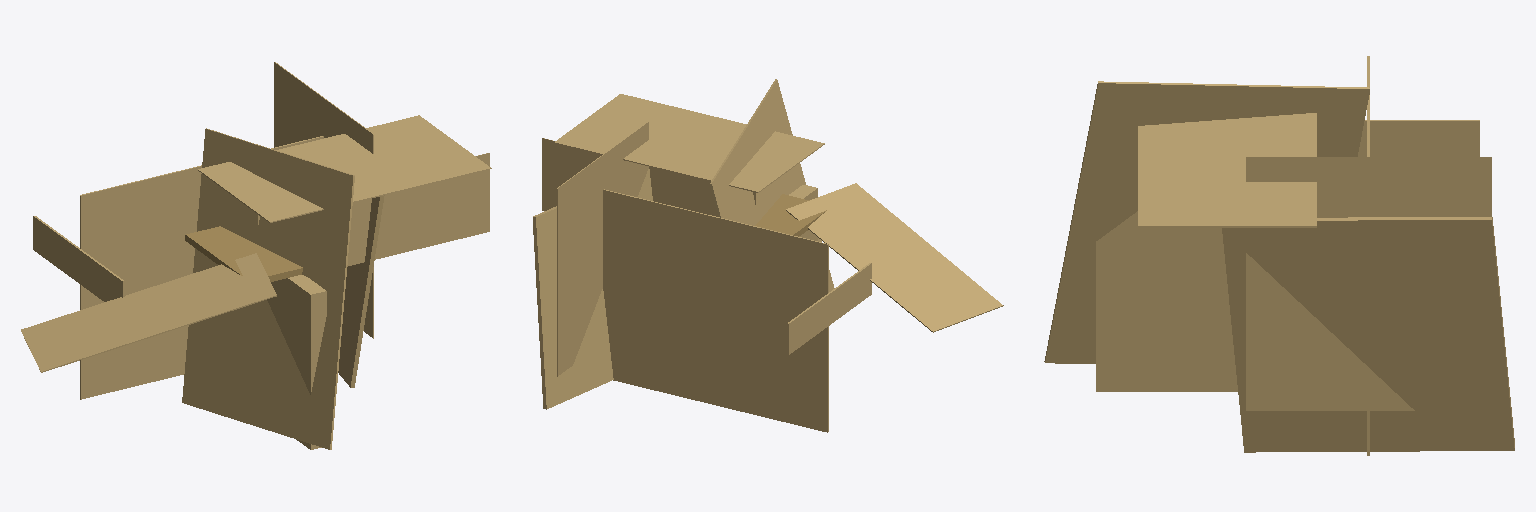
The robot description file, URDF, robot "evolved_design":
<?xml version="1.0" ?>
<robot name="evolved_design">
  <link name="base_link">
    <inertial>
      <mass value="0.001"/>
      <origin xyz="0 0 0" rpy="0 0 0"/>
      <inertia ixx="0.000001" ixy="0" ixz="0" iyy="0.000001" iyz="0" izz="0.000001"/>
    </inertial>
  </link>
  <link name="link_comp_0">
    <inertial>
      <mass value="8.880982"/>
      <origin xyz="0 0 0" rpy="0 0 0"/>
      <inertia ixx="0.393810808" ixy="0" ixz="0" iyy="0.161316370" iyz="0" izz="0.236194847"/>
    </inertial>
    <visual>
      <origin xyz="0 0 0" rpy="0 0 0"/>
      <geometry>
        <box size="0.050000 0.562714 0.464189"/>
      </geometry>
      <material name="link_comp_0_material">
        <color rgba="0.8 0.7 0.5 1"/>
      </material>
    </visual>
    <collision>
      <origin xyz="0 0 0" rpy="0 0 0"/>
      <geometry>
        <box size="0.050000 0.562714 0.464189"/>
      </geometry>
    </collision>
  </link>
  <joint name="base_link_to_link_comp_0" type="fixed">
    <parent link="base_link"/>
    <child link="link_comp_0"/>
    <origin xyz="0.025000 0.281357 0.232094" rpy="0.000000 0.000000 0.000000"/>
  </joint>
  <link name="link_comp_1">
    <inertial>
      <mass value="1.500321"/>
      <origin xyz="0 0 0" rpy="0 0 0"/>
      <inertia ixx="0.046464279" ixy="0" ixz="0" iyy="0.119057487" iyz="0" izz="0.072598849"/>
    </inertial>
    <visual>
      <origin xyz="0 0 0" rpy="0 0 0"/>
      <geometry>
        <box size="0.762000 0.004750 0.609600"/>
      </geometry>
      <material name="link_comp_1_material">
        <color rgba="0.8 0.7 0.5 1"/>
      </material>
    </visual>
    <collision>
      <origin xyz="0 0 0" rpy="0 0 0"/>
      <geometry>
        <box size="0.762000 0.004750 0.609600"/>
      </geometry>
    </collision>
  </link>
  <joint name="base_link_to_link_comp_1" type="fixed">
    <parent link="base_link"/>
    <child link="link_comp_1"/>
    <origin xyz="0.002716 0.593974 0.304800" rpy="0.000000 0.000000 0.000000"/>
  </joint>
  <link name="link_comp_2">
    <inertial>
      <mass value="0.212601"/>
      <origin xyz="0 0 0" rpy="0 0 0"/>
      <inertia ixx="0.004343697" ixy="0" ixz="0" iyy="0.000183588" iyz="0" izz="0.004161537"/>
    </inertial>
    <visual>
      <origin xyz="0 0 0" rpy="0 0 0"/>
      <geometry>
        <box size="0.006350 0.484616 0.101598"/>
      </geometry>
      <material name="link_comp_2_material">
        <color rgba="0.8 0.7 0.5 1"/>
      </material>
    </visual>
    <collision>
      <origin xyz="0 0 0" rpy="0 0 0"/>
      <geometry>
        <box size="0.006350 0.484616 0.101598"/>
      </geometry>
    </collision>
  </link>
  <joint name="base_link_to_link_comp_2" type="fixed">
    <parent link="base_link"/>
    <child link="link_comp_2"/>
    <origin xyz="-0.381959 0.594301 0.401203" rpy="0.000000 0.000000 0.000000"/>
  </joint>
  <link name="link_comp_3">
    <inertial>
      <mass value="0.667781"/>
      <origin xyz="0 0 0" rpy="0 0 0"/>
      <inertia ixx="0.036755775" ixy="0" ixz="0" iyy="0.020680131" iyz="0" izz="0.016076644"/>
    </inertial>
    <visual>
      <origin xyz="0 0 0" rpy="0 0 0"/>
      <geometry>
        <box size="0.002997 0.537483 0.609600"/>
      </geometry>
      <material name="link_comp_3_material">
        <color rgba="0.8 0.7 0.5 1"/>
      </material>
    </visual>
    <collision>
      <origin xyz="0 0 0" rpy="0 0 0"/>
      <geometry>
        <box size="0.002997 0.537483 0.609600"/>
      </geometry>
    </collision>
  </link>
  <joint name="base_link_to_link_comp_3" type="fixed">
    <parent link="base_link"/>
    <child link="link_comp_3"/>
    <origin xyz="0.385714 0.594703 0.416882" rpy="0.000000 0.000000 0.000000"/>
  </joint>
  <link name="link_comp_4">
    <inertial>
      <mass value="0.434203"/>
      <origin xyz="0 0 0" rpy="0 0 0"/>
      <inertia ixx="0.002761186" ixy="0" ixz="0" iyy="0.016445115" iyz="0" izz="0.019205450"/>
    </inertial>
    <visual>
      <origin xyz="0 0 0" rpy="0 0 0"/>
      <geometry>
        <box size="0.674151 0.276222 0.003429"/>
      </geometry>
      <material name="link_comp_4_material">
        <color rgba="0.8 0.7 0.5 1"/>
      </material>
    </visual>
    <collision>
      <origin xyz="0 0 0" rpy="0 0 0"/>
      <geometry>
        <box size="0.674151 0.276222 0.003429"/>
      </geometry>
    </collision>
  </link>
  <joint name="base_link_to_link_comp_4" type="fixed">
    <parent link="base_link"/>
    <child link="link_comp_4"/>
    <origin xyz="-0.382815 0.213382 0.413080" rpy="0.000000 -0.253033 -0.321895"/>
  </joint>
  <link name="link_comp_5">
    <inertial>
      <mass value="0.116365"/>
      <origin xyz="0 0 0" rpy="0 0 0"/>
      <inertia ixx="0.000540517" ixy="0" ixz="0" iyy="0.005635044" iyz="0" izz="0.005094546"/>
    </inertial>
    <visual>
      <origin xyz="0 0 0" rpy="0 0 0"/>
      <geometry>
        <box size="0.724823 0.001000 0.236092"/>
      </geometry>
      <material name="link_comp_5_material">
        <color rgba="0.8 0.7 0.5 1"/>
      </material>
    </visual>
    <collision>
      <origin xyz="0 0 0" rpy="0 0 0"/>
      <geometry>
        <box size="0.724823 0.001000 0.236092"/>
      </geometry>
    </collision>
  </link>
  <joint name="base_link_to_link_comp_5" type="fixed">
    <parent link="base_link"/>
    <child link="link_comp_5"/>
    <origin xyz="0.385658 0.325080 0.465255" rpy="0.000000 0.000000 0.000000"/>
  </joint>
  <link name="link_comp_6">
    <inertial>
      <mass value="3.057755"/>
      <origin xyz="0 0 0" rpy="0 0 0"/>
      <inertia ixx="0.180447841" ixy="0" ixz="0" iyy="0.089643326" iyz="0" izz="0.090886713"/>
    </inertial>
    <visual>
      <origin xyz="0 0 0" rpy="0 0 0"/>
      <geometry>
        <box size="0.012700 0.597092 0.592992"/>
      </geometry>
      <material name="link_comp_6_material">
        <color rgba="0.8 0.7 0.5 1"/>
      </material>
    </visual>
    <collision>
      <origin xyz="0 0 0" rpy="0 0 0"/>
      <geometry>
        <box size="0.012700 0.597092 0.592992"/>
      </geometry>
    </collision>
  </link>
  <joint name="base_link_to_link_comp_6" type="fixed">
    <parent link="base_link"/>
    <child link="link_comp_6"/>
    <origin xyz="0.390566 0.593625 0.296496" rpy="0.069787 0.121281 -0.126473"/>
  </joint>
  <link name="link_comp_7">
    <inertial>
      <mass value="2.005777"/>
      <origin xyz="0 0 0" rpy="0 0 0"/>
      <inertia ixx="0.159167763" ixy="0" ixz="0" iyy="0.097060254" iyz="0" izz="0.062120989"/>
    </inertial>
    <visual>
      <origin xyz="0 0 0" rpy="0 0 0"/>
      <geometry>
        <box size="0.006350 0.609600 0.762000"/>
      </geometry>
      <material name="link_comp_7_material">
        <color rgba="0.8 0.7 0.5 1"/>
      </material>
    </visual>
    <collision>
      <origin xyz="0 0 0" rpy="0 0 0"/>
      <geometry>
        <box size="0.006350 0.609600 0.762000"/>
      </geometry>
    </collision>
  </link>
  <joint name="base_link_to_link_comp_7" type="fixed">
    <parent link="base_link"/>
    <child link="link_comp_7"/>
    <origin xyz="0.008171 0.242731 0.381000" rpy="-0.119084 0.211127 0.174577"/>
  </joint>
  <link name="link_comp_8">
    <inertial>
      <mass value="1.105250"/>
      <origin xyz="0 0 0" rpy="0 0 0"/>
      <inertia ixx="0.010932444" ixy="0" ixz="0" iyy="0.005699530" iyz="0" izz="0.016565124"/>
    </inertial>
    <visual>
      <origin xyz="0 0 0" rpy="0 0 0"/>
      <geometry>
        <box size="0.248029 0.343997 0.019050"/>
      </geometry>
      <material name="link_comp_8_material">
        <color rgba="0.7 0.6 0.4 1"/>
      </material>
    </visual>
    <collision>
      <origin xyz="0 0 0" rpy="0 0 0"/>
      <geometry>
        <box size="0.248029 0.343997 0.019050"/>
      </geometry>
    </collision>
  </link>
  <joint name="base_link_to_link_comp_8" type="fixed">
    <parent link="base_link"/>
    <child link="link_comp_8"/>
    <origin xyz="0.002248 0.295550 0.474214" rpy="0.000000 0.000000 0.000000"/>
  </joint>
  <link name="link_comp_9">
    <inertial>
      <mass value="0.630815"/>
      <origin xyz="0 0 0" rpy="0 0 0"/>
      <inertia ixx="0.008021506" ixy="0" ixz="0" iyy="0.025216287" iyz="0" izz="0.033236557"/>
    </inertial>
    <visual>
      <origin xyz="0 0 0" rpy="0 0 0"/>
      <geometry>
        <box size="0.692588 0.390617 0.003429"/>
      </geometry>
      <material name="link_comp_9_material">
        <color rgba="0.8 0.7 0.5 1"/>
      </material>
    </visual>
    <collision>
      <origin xyz="0 0 0" rpy="0 0 0"/>
      <geometry>
        <box size="0.692588 0.390617 0.003429"/>
      </geometry>
    </collision>
  </link>
  <joint name="base_link_to_link_comp_9" type="fixed">
    <parent link="base_link"/>
    <child link="link_comp_9"/>
    <origin xyz="0.270858 0.285475 0.661032" rpy="0.000000 0.000000 0.000000"/>
  </joint>
</robot>

--- Facts derived from the render (not from the file) ---
Views: 3 orthographic renders of the robot side by side, from view 1: azimuth 30°, elevation 25°; view 2: azimuth 150°, elevation 25°; view 3: azimuth 270°, elevation 25°.
Model evolved_design with 11 links and 10 joints (10 fixed), rooted at base_link, posed all joints at 0.
Visible links, largest first — view 1: link_comp_7, link_comp_1, link_comp_9, link_comp_4, link_comp_5, link_comp_3, link_comp_0, link_comp_6, link_comp_2, link_comp_8; view 2: link_comp_1, link_comp_4, link_comp_9, link_comp_3, link_comp_6, link_comp_7, link_comp_5, link_comp_2, link_comp_8; view 3: link_comp_6, link_comp_3, link_comp_7, link_comp_0, link_comp_9, link_comp_2.
Boxes of the visible links, x1,y1,x2,y2 form: link_comp_7: (182,128,354,449); link_comp_1: (80,136,323,399); link_comp_9: (198,115,491,222); link_comp_4: (21,253,276,372); link_comp_5: (258,153,489,266); link_comp_3: (274,62,373,338); link_comp_0: (267,275,326,449); link_comp_6: (338,195,384,387); link_comp_2: (33,216,124,301); link_comp_8: (185,226,302,281); link_comp_1: (603,189,828,432); link_comp_4: (786,183,1003,332); link_comp_9: (554,94,824,192); link_comp_3: (557,121,648,376); link_comp_6: (533,169,652,409); link_comp_7: (710,79,834,291); link_comp_5: (542,138,755,216); link_comp_2: (787,263,871,354); link_comp_8: (755,194,826,236); link_comp_6: (1222,217,1514,452); link_comp_3: (1246,157,1491,410); link_comp_7: (1044,81,1369,363); link_comp_0: (1096,211,1237,391); link_comp_9: (1138,113,1316,227); link_comp_2: (1358,120,1479,156).
Size in the robot's own frame: 1.48 by 1.03 by 0.8119 metres.
Geometry: primitives only (box / cylinder / sphere), no mesh files.